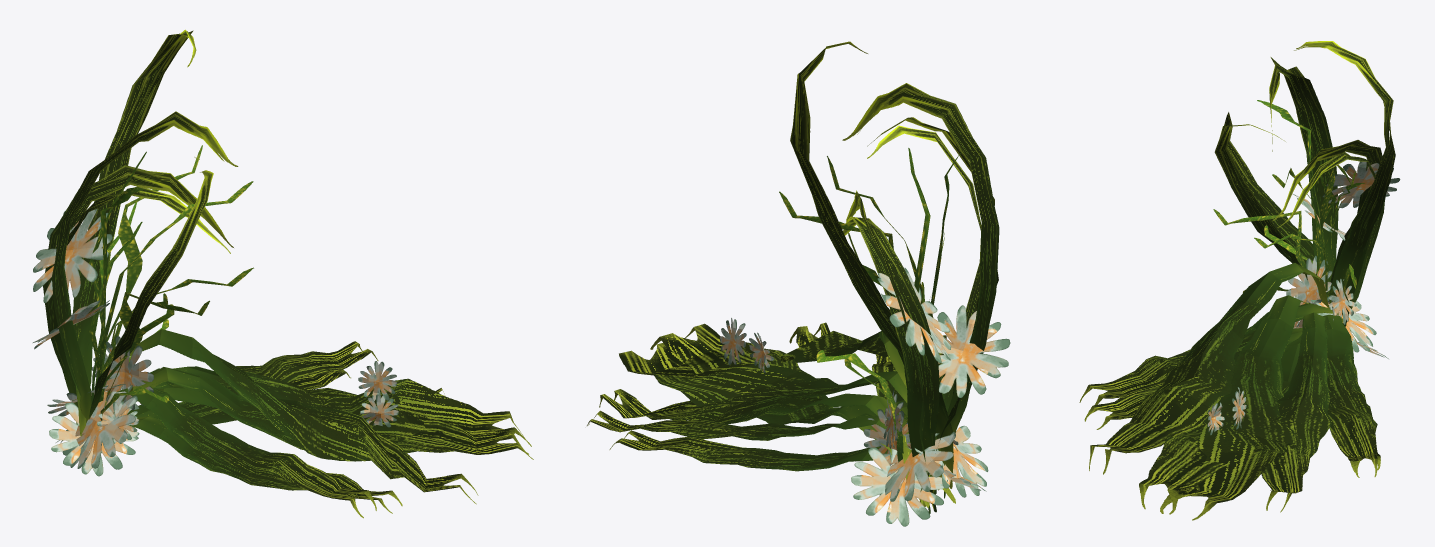
The picture shows the model from 3 angles, left to right: view 1: azimuth 30°, elevation 25°; view 2: azimuth 150°, elevation 25°; view 3: azimuth 270°, elevation 25°; orthographic projection. The views are drawn at different scales.
Visible parts, largest first — view 1: A03; view 2: A03; view 3: A03.
Part boxes in pixels (x1,y1,x2,y2): A03: [33, 29, 533, 518]; A03: [587, 41, 1010, 526]; A03: [1079, 41, 1400, 520].
Size of the model in its own units: 1148 by 1081 by 909.
